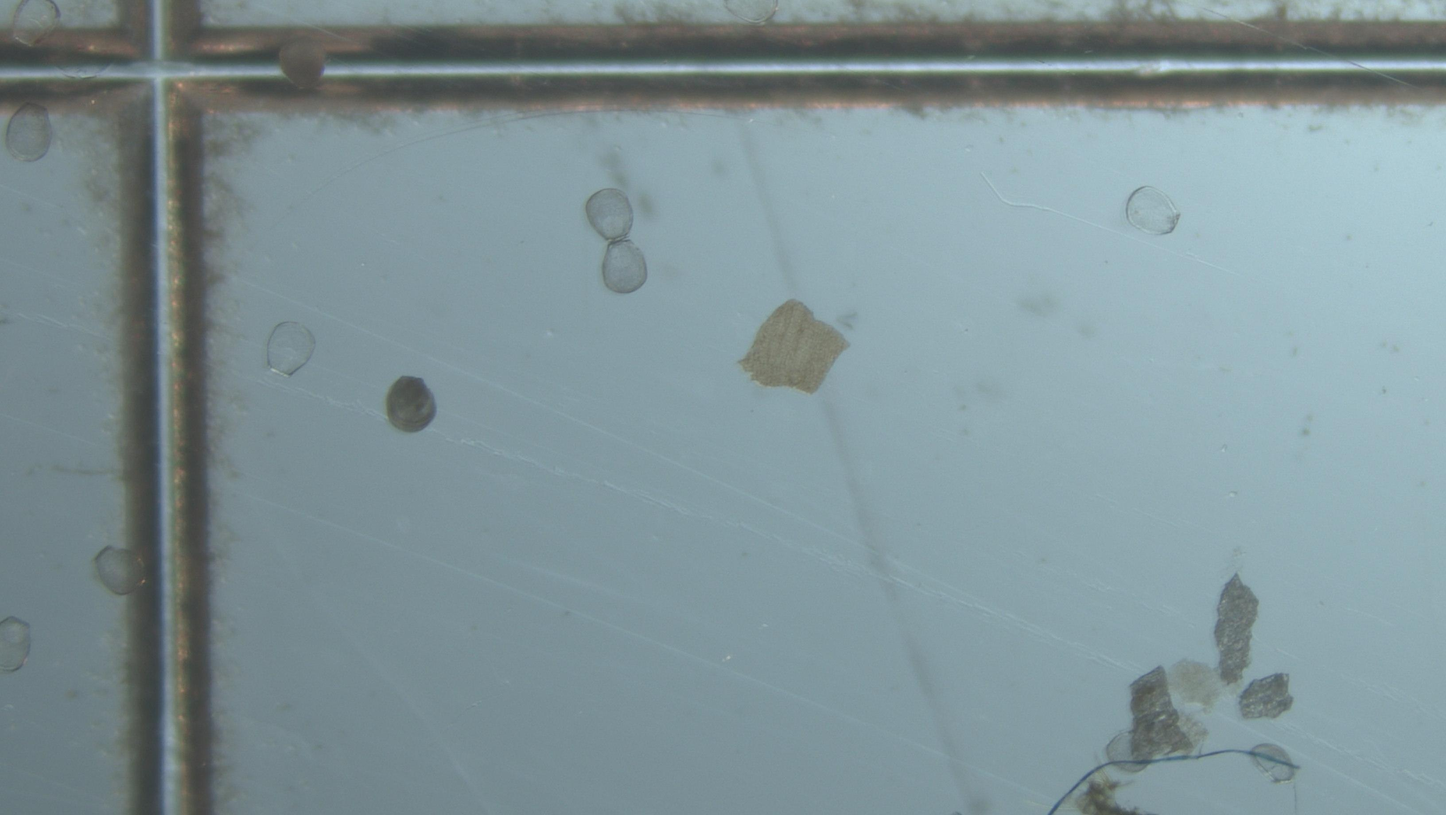dead: (6, 104, 52, 161), (268, 322, 315, 376), (1127, 186, 1179, 234), (587, 189, 634, 241), (602, 240, 647, 294), (12, 0, 60, 47), (1246, 744, 1299, 783), (0, 617, 30, 672)
live: (385, 376, 436, 433), (93, 546, 143, 595), (280, 41, 325, 89)
